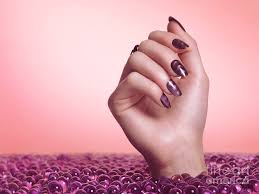hand: (106, 14, 221, 169)
